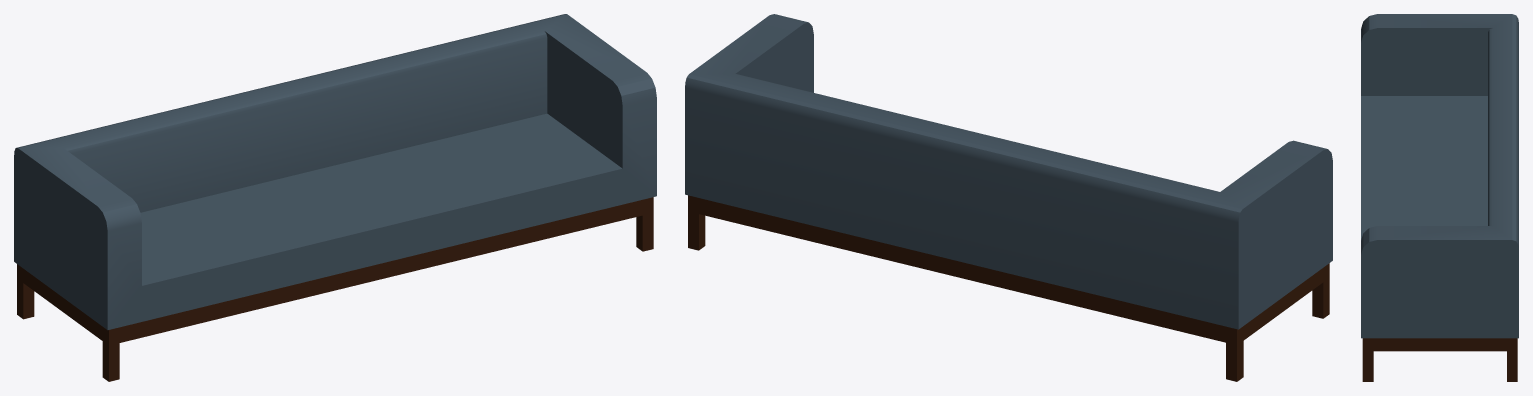
Rendered from Couch.fbx.
3 views of the same model, side by side, from view 1: azimuth 30°, elevation 25°; view 2: azimuth 150°, elevation 25°; view 3: azimuth 270°, elevation 25° (orthographic). The views are drawn at different scales.
Visible parts, largest first — view 1: Cube, Cube.001; view 2: Cube, Cube.001; view 3: Cube, Cube.001.
Part boxes in pixels (x1=…): Cube: x1=14, y1=14, x2=656, y2=329; Cube.001: x1=17, y1=197, x2=653, y2=381; Cube: x1=685, y1=14, x2=1332, y2=329; Cube.001: x1=688, y1=195, x2=1329, y2=381; Cube: x1=1361, y1=14, x2=1518, y2=338; Cube.001: x1=1362, y1=338, x2=1517, y2=381.
Bounding box in the file's own units: 199 × 58.62 × 58.69.
